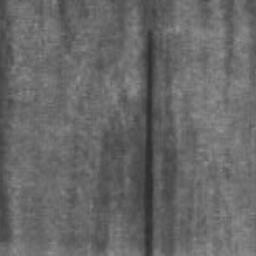Scratches: (143, 27, 154, 256)
